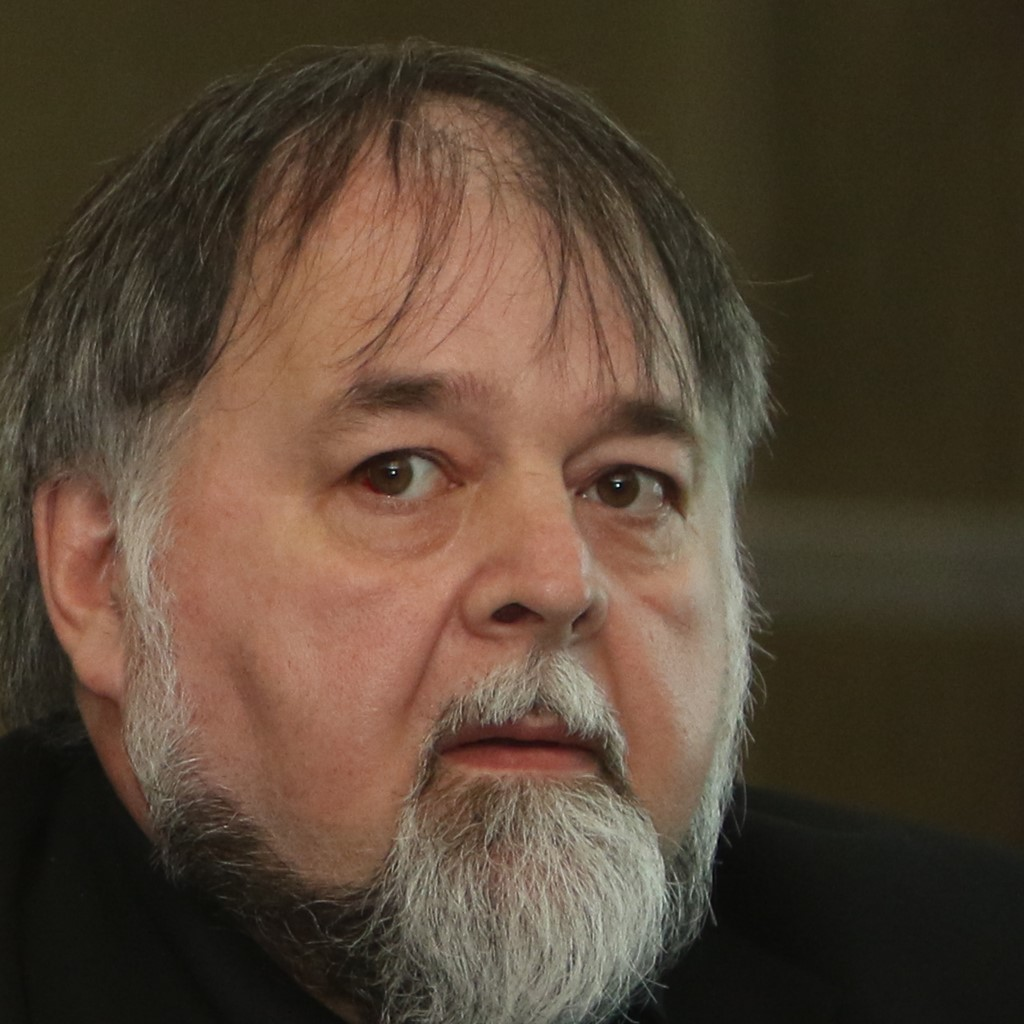sin_mascara: (69, 95, 728, 1005)
